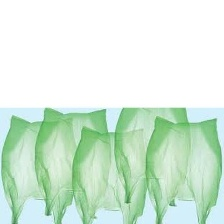plastic_bag: (31, 103, 116, 224), (141, 113, 224, 223), (108, 102, 191, 210), (0, 113, 80, 223), (69, 123, 153, 224)
